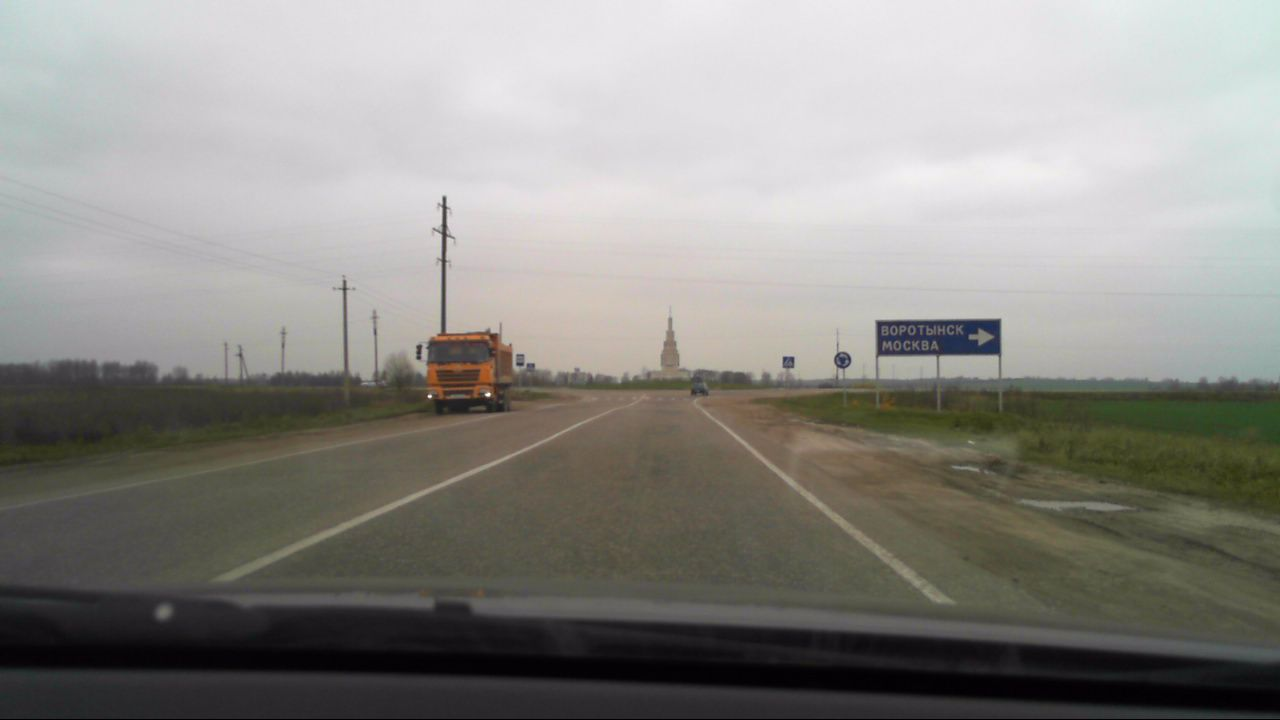Round-About: (834, 350, 853, 370)
